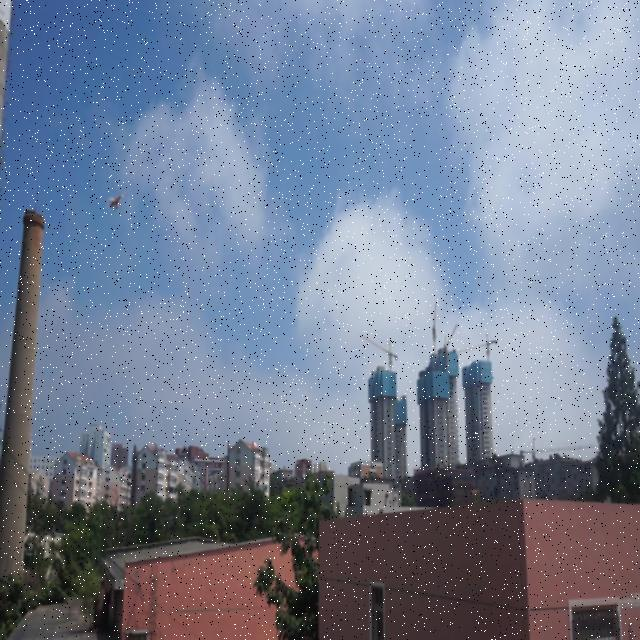UAV: (105, 189, 126, 212)
